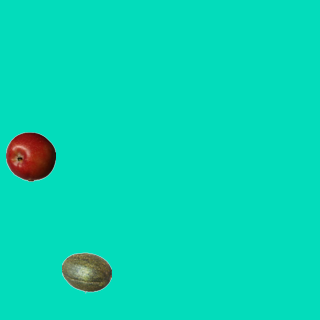Apple Braeburn: (5, 131, 55, 181)
Melon Piel de Sapo: (61, 247, 111, 297)
